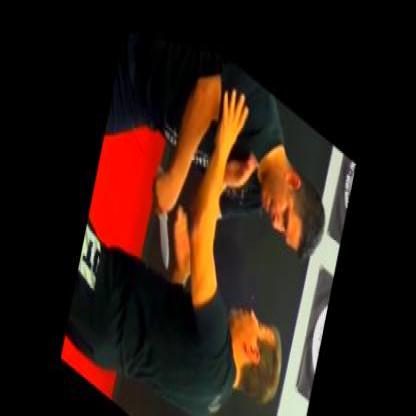knife: (140, 148, 186, 266)
